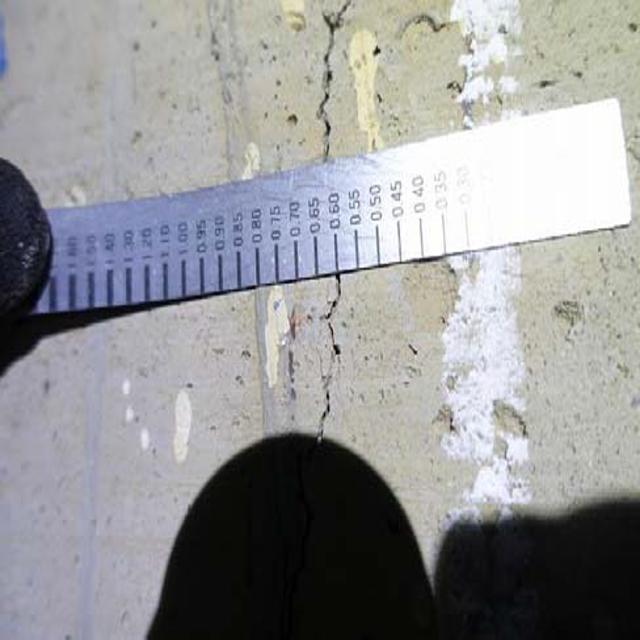crack: (286, 1, 347, 173), (313, 264, 364, 446)
